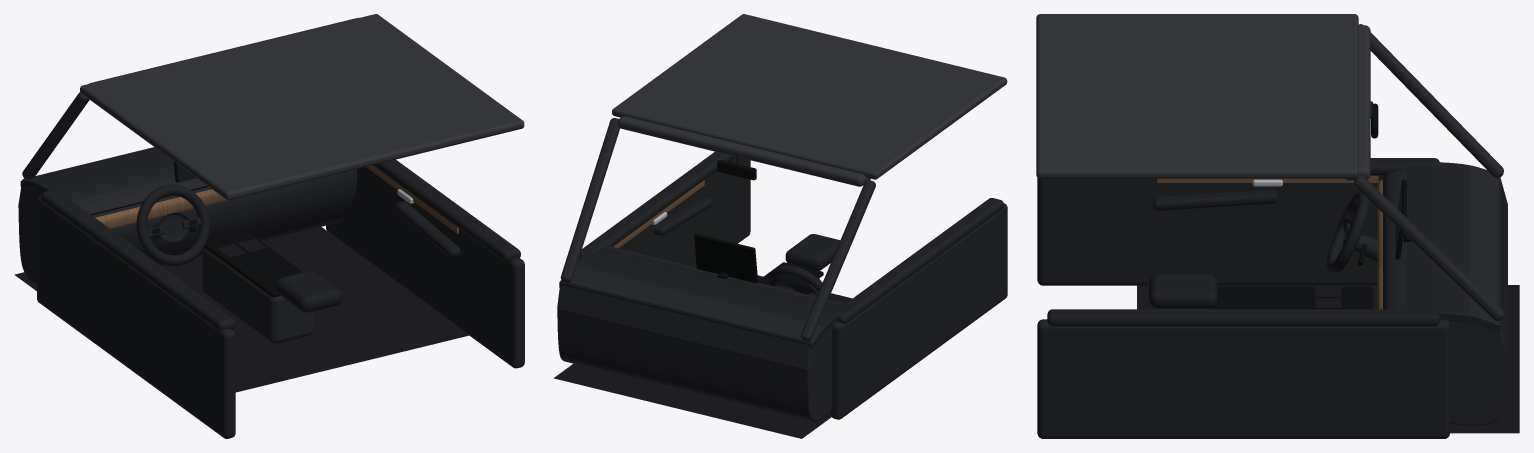
The model's file is cabin-wheel.glb.
3 renders of one model, left to right at view 1: azimuth 30°, elevation 25°; view 2: azimuth 150°, elevation 25°; view 3: azimuth 270°, elevation 25°, orthographic. The views are drawn at different scales.
Parts seen in each view (by area): view 1: Headliner, DoorTrim (×2), Floor, Dashboard, WindowSill (×2), ConsoleBody, DashTop, ConsoleTop, Rim, ConsoleArmrest, WoodTrim, APillarL (+3 smaller); view 2: Headliner, Dashboard, DoorTrim (×2), DashTop, WindowSill (×2), Floor, HeaderRail, ScreenBezel, APillarL, APillarR, ConsoleArmrest, Armrest (+4 smaller); view 3: DoorTrim (×2), Headliner, Dashboard, DashTop, WindowSill (×2), Floor, ConsoleTop, APillarR, APillarL, ConsoleArmrest, HeaderRail, Armrest (+3 smaller).
Boxes of the visible parts, x1=… form: Headliner: x1=80, y1=14, x2=524, y2=200; DoorTrim (×2): x1=37, y1=167, x2=524, y2=438; Floor: x1=14, y1=227, x2=468, y2=392; Dashboard: x1=18, y1=147, x2=357, y2=284; WindowSill (×2): x1=41, y1=159, x2=520, y2=331; ConsoleBody: x1=202, y1=247, x2=314, y2=343; DashTop: x1=20, y1=152, x2=174, y2=200; ConsoleTop: x1=204, y1=229, x2=302, y2=297; Rim: x1=136, y1=185, x2=209, y2=265; ConsoleArmrest: x1=275, y1=270, x2=342, y2=312; WoodTrim: x1=95, y1=189, x2=227, y2=228; APillarL: x1=22, y1=92, x2=89, y2=179; Headliner: x1=612, y1=14, x2=1007, y2=179; Dashboard: x1=557, y1=246, x2=844, y2=422; DoorTrim (×2): x1=619, y1=157, x2=1007, y2=419; DashTop: x1=559, y1=248, x2=841, y2=349; WindowSill (×2): x1=579, y1=151, x2=1003, y2=323; Floor: x1=554, y1=275, x2=852, y2=438; HeaderRail: x1=617, y1=116, x2=870, y2=186; ScreenBezel: x1=694, y1=233, x2=758, y2=283; APillarL: x1=800, y1=180, x2=875, y2=341; APillarR: x1=560, y1=118, x2=619, y2=282; ConsoleArmrest: x1=785, y1=234, x2=840, y2=270; Armrest: x1=653, y1=197, x2=712, y2=235; DoorTrim (×2): x1=1037, y1=175, x2=1449, y2=438; Headliner: x1=1036, y1=14, x2=1358, y2=178; Dashboard: x1=1382, y1=166, x2=1507, y2=425; DashTop: x1=1407, y1=162, x2=1500, y2=331; WindowSill (×2): x1=1047, y1=158, x2=1439, y2=326; Floor: x1=1137, y1=285, x2=1519, y2=433; ConsoleTop: x1=1211, y1=286, x2=1372, y2=309; APillarR: x1=1354, y1=175, x2=1503, y2=320; APillarL: x1=1359, y1=24, x2=1503, y2=177; ConsoleArmrest: x1=1149, y1=274, x2=1217, y2=308; HeaderRail: x1=1344, y1=25, x2=1370, y2=180; Armrest: x1=1153, y1=189, x2=1277, y2=210.
Size of the model in its own units: 1.89 by 1.47 by 2.4.
Materials: 12 (1 with a texture image).
